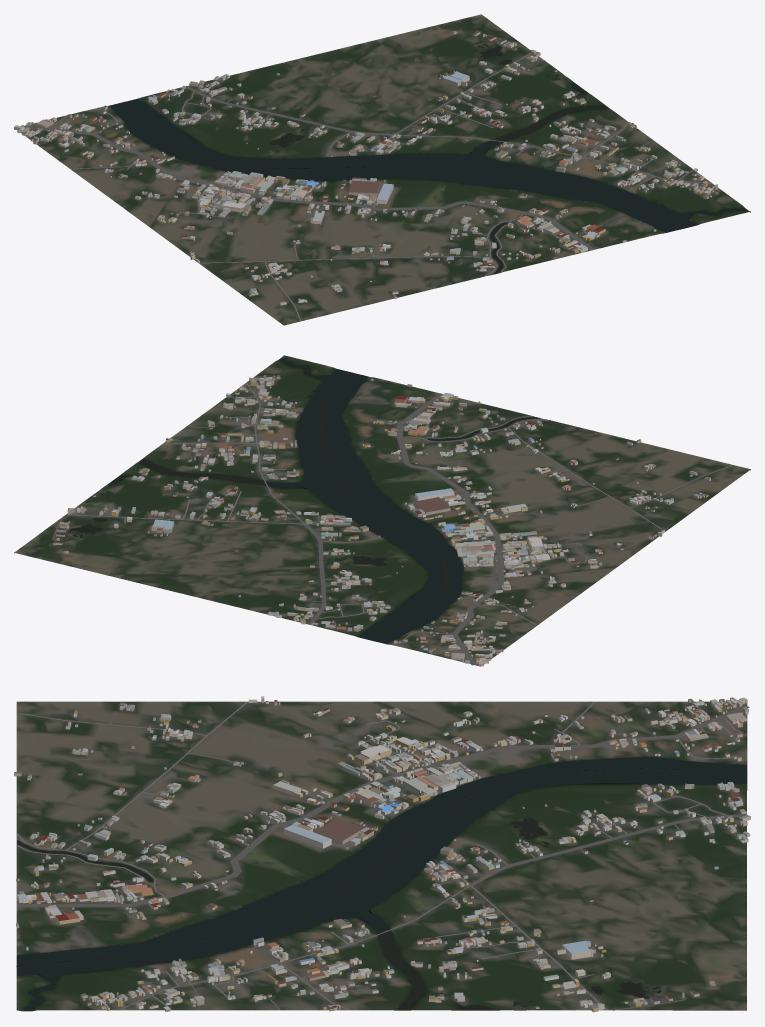
3 views of the same model, one above another, from view 1: azimuth 30°, elevation 25°; view 2: azimuth 150°, elevation 25°; view 3: azimuth 270°, elevation 25° (orthographic). The views are drawn at different scales.
Parts seen in each view (by area): view 1: ground, buildings, water, roads; view 2: ground, buildings, water, roads; view 3: ground, buildings, water, roads.
Boxes of the visible parts, x1,y1,x2,y2 form: ground: (17,14,750,325); buildings: (14,30,718,305); water: (110,44,747,274); roads: (21,35,712,321); ground: (14,355,750,666); buildings: (53,375,710,666); water: (69,358,541,643); roads: (52,382,733,665); ground: (16,701,747,1011); buildings: (14,696,750,1012); water: (16,756,747,1010); roads: (16,701,749,1010).
Bounding box in the file's own units: 1416 × 18.31 × 1413.
